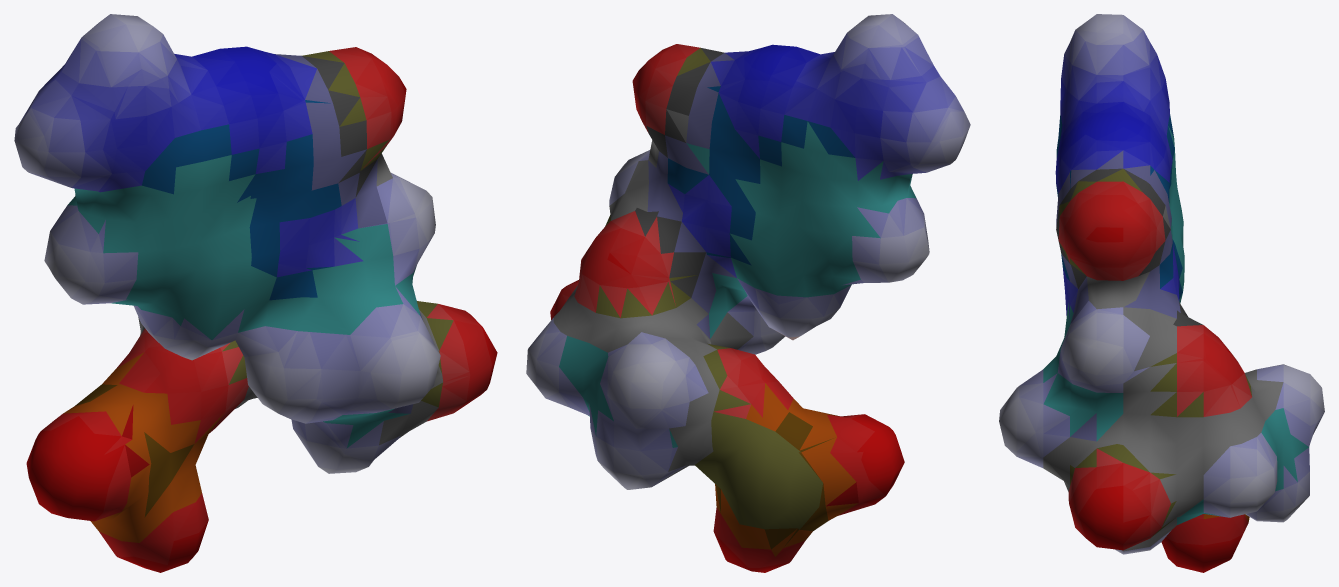
Rendered from cytosine_surface.obj.
3 views of the same model, side by side, from view 1: azimuth 30°, elevation 25°; view 2: azimuth 150°, elevation 25°; view 3: azimuth 270°, elevation 25° (orthographic). The views are drawn at different scales.
Parts seen in each view (by area): view 1: vmd_mol0_rep0; view 2: vmd_mol0_rep0; view 3: vmd_mol0_rep0.
Boxes of the visible parts, x1,y1,x2,y2 form: vmd_mol0_rep0: (14, 14, 497, 572); vmd_mol0_rep0: (526, 14, 970, 572); vmd_mol0_rep0: (999, 14, 1324, 572).
Size of the model in its own units: 1.39 by 1.72 by 0.9844.
